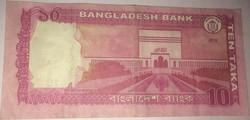10 taka: (7, 1, 249, 113)
